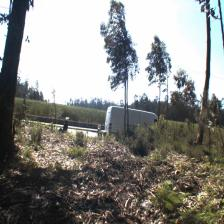trunktrack_idkeyframe: (0, 16, 26, 138), (195, 23, 212, 149)
